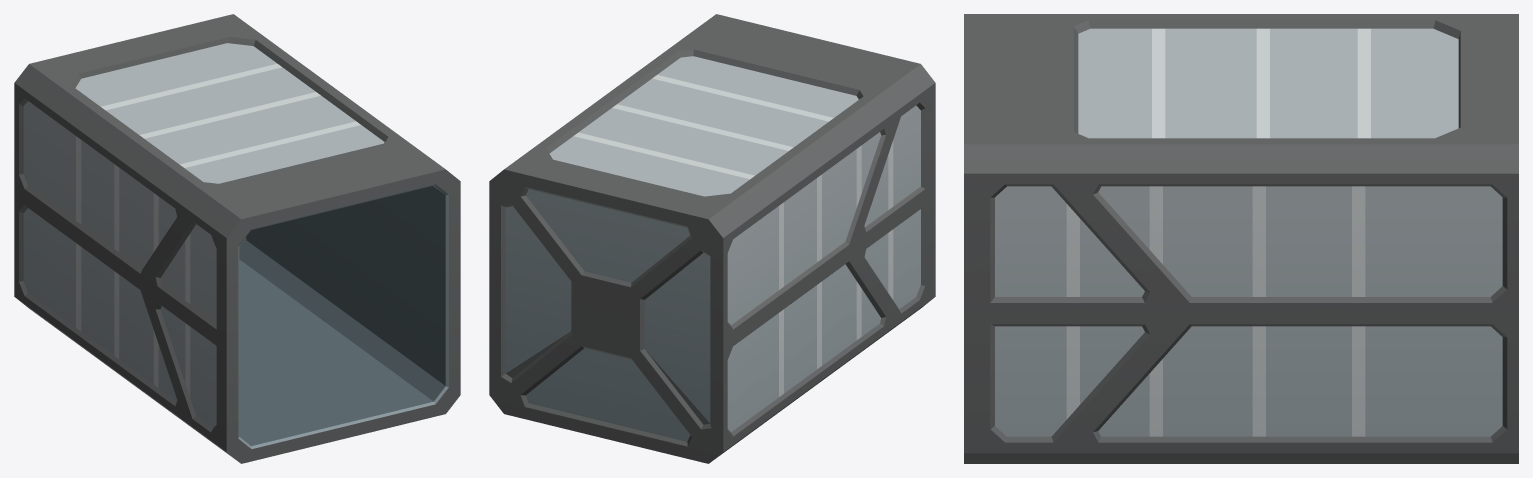
The model's file is Container_type_B_006.fbx.
3 renders of one model, left to right at view 1: azimuth 30°, elevation 25°; view 2: azimuth 150°, elevation 25°; view 3: azimuth 270°, elevation 25°, orthographic. The views are drawn at different scales.
Visible parts, largest first — view 1: Container_type_B_006; view 2: Container_type_B_006; view 3: Container_type_B_006.
Part boxes in pixels (x1,y1,x2,y2): Container_type_B_006: (14, 14, 460, 463); Container_type_B_006: (489, 14, 935, 463); Container_type_B_006: (964, 14, 1518, 463).
Size of the model in its own units: 240 by 378 by 240.
